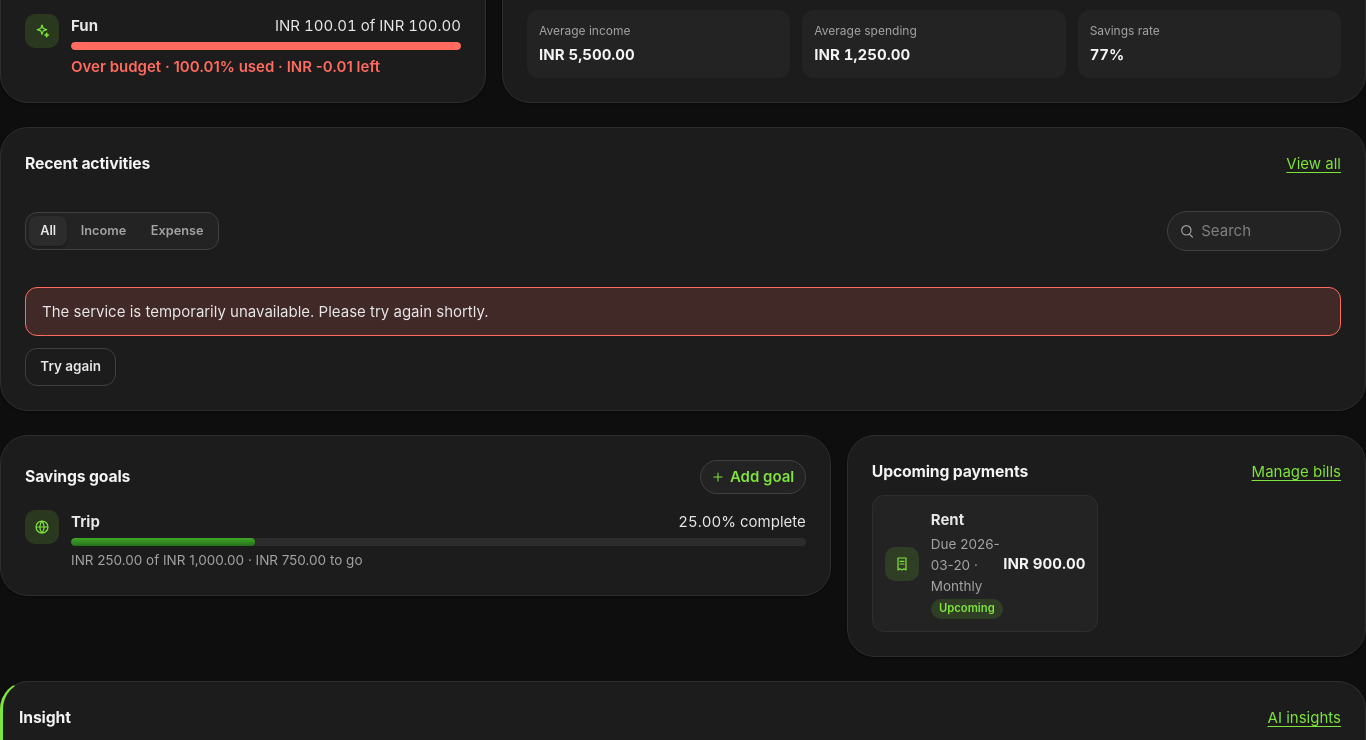
Scenario: dashboard (mocked fetch) › keeps the balances when a secondary block fails, and lets that block retry
(page scrolled)
Expected: the message shows "temporarily unavailable", [42,302,489,321]
Step 1. Click the button "Try again" → x=71, y=367, box [25,348,116,386]
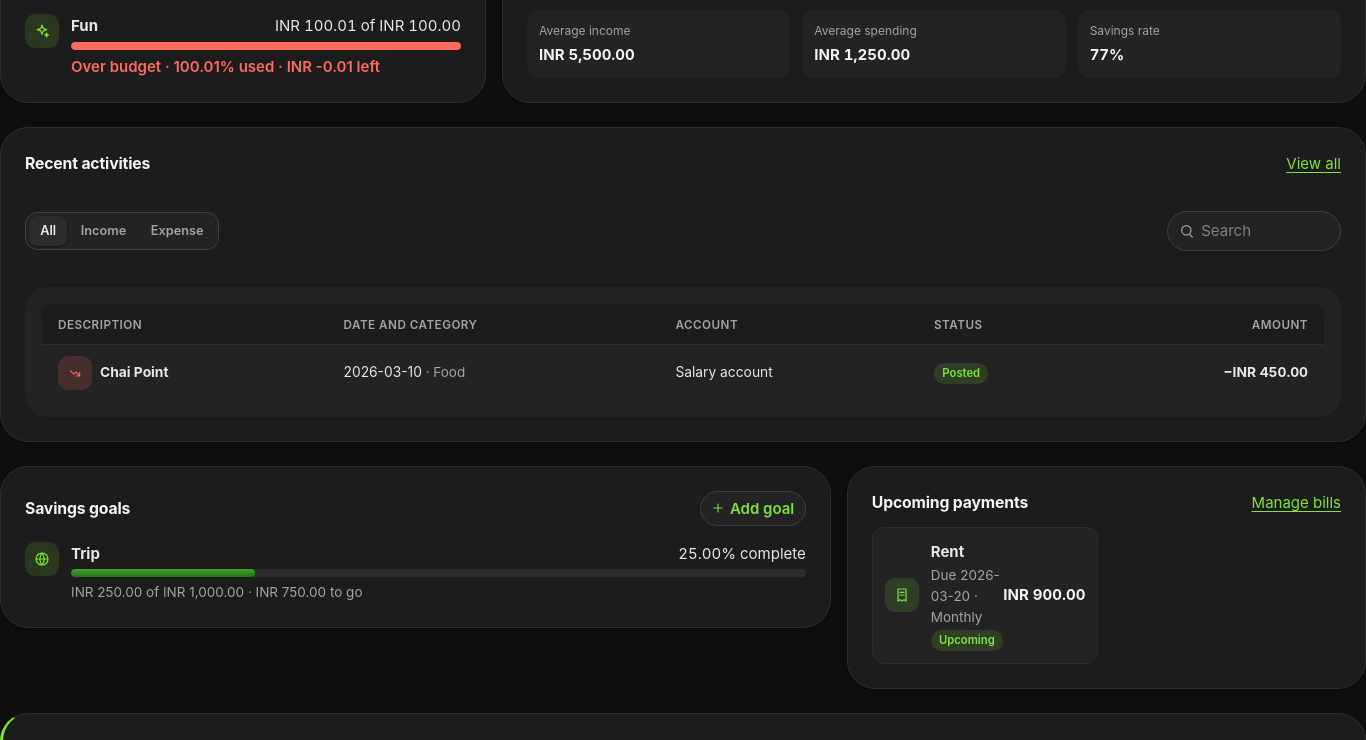
Result: the text "Chai Point" is shown at [100,362,168,384]
